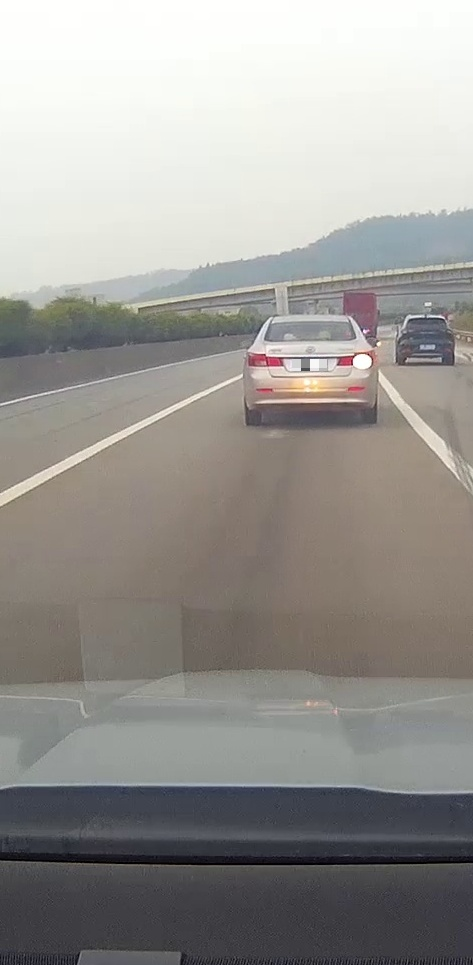L_light: (248, 352, 283, 367), (401, 329, 414, 334)
R_light: (337, 350, 373, 367), (441, 328, 452, 334)
T_light: (304, 322, 320, 326), (423, 318, 430, 320)
day-no: (396, 314, 455, 365)
day-right: (244, 315, 377, 425)
plate_1: (292, 359, 327, 371)
